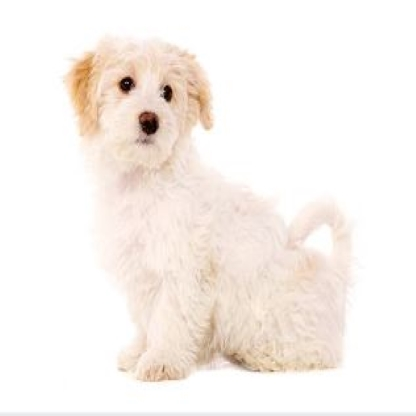maltese: (55, 30, 360, 377)
